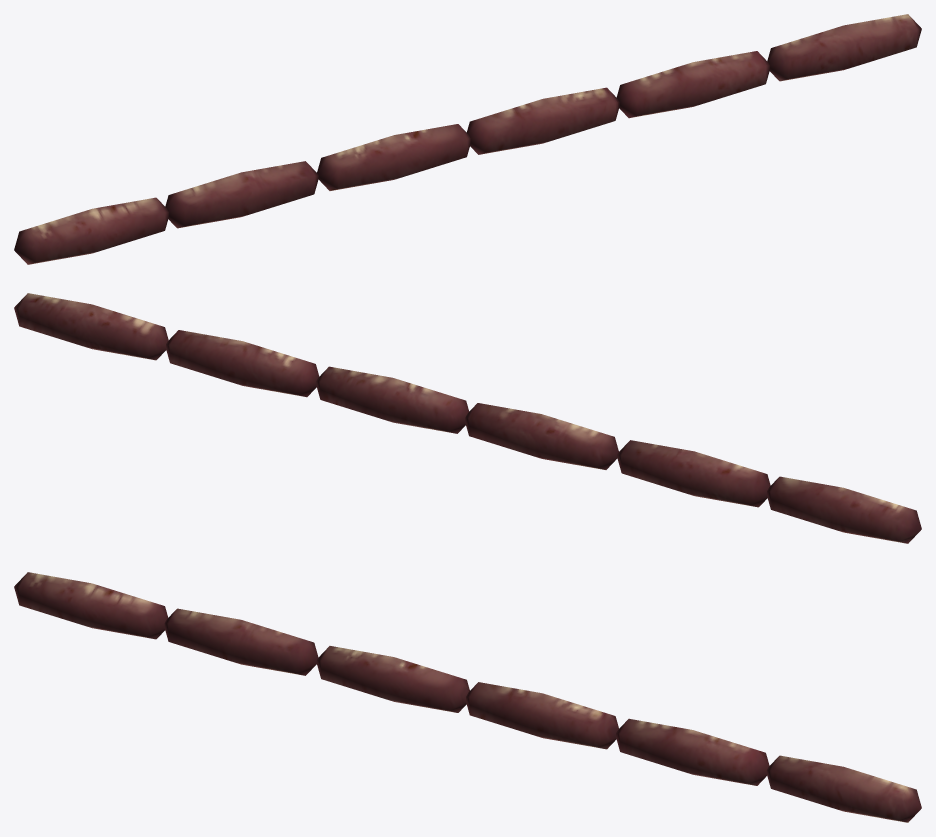
Rendered from sausages_straight.fbx.
3 views of the same model, one above another, from view 1: azimuth 30°, elevation 25°; view 2: azimuth 150°, elevation 25°; view 3: azimuth 330°, elevation 25° (orthographic).
Parts seen in each view (by area): view 1: sausages_straight; view 2: sausages_straight; view 3: sausages_straight.
Part boxes in pixels (x1,y1,x2,y2): sausages_straight: (14,14,921,264); sausages_straight: (14,293,921,543); sausages_straight: (14,572,921,822).
Bounding box in the file's own units: 187 × 8.82 × 7.64.
